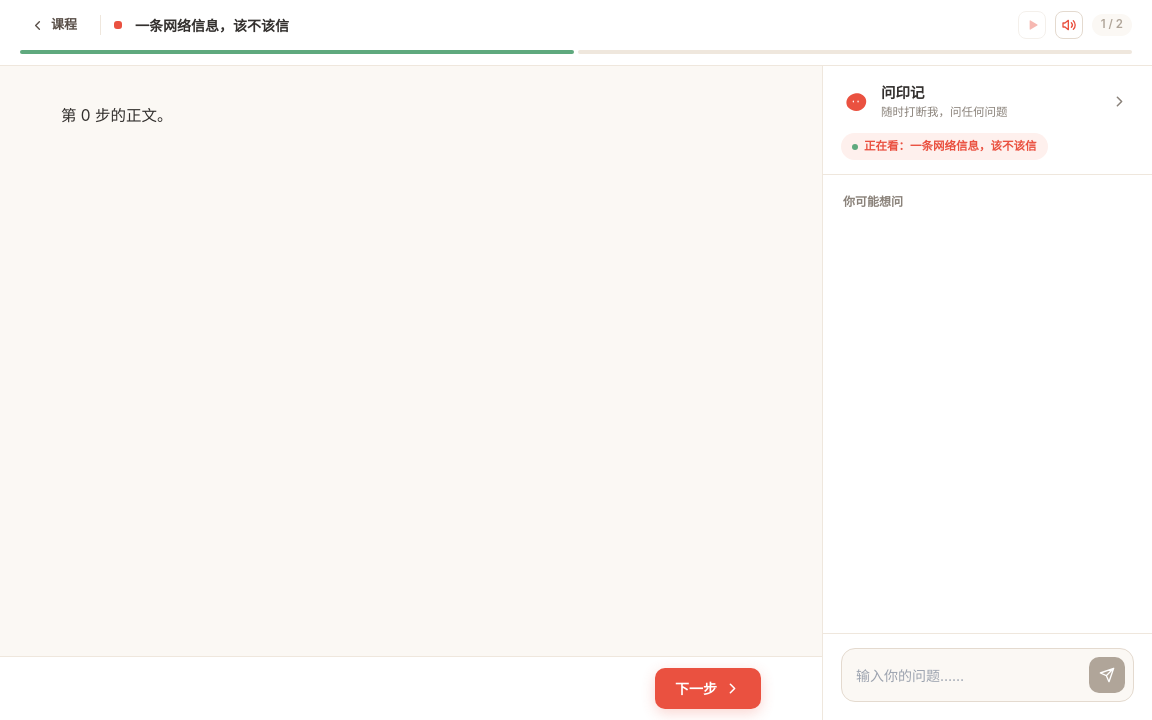
Test: CoursePlayer › sends a question through the AI bar and streams the reply
The image size is (1152, 720).
Check: the text "第 0 步的正文。" is shown, box [61,106,172,125]
Type "这段话可信吗？" into the field with placeholder "输入你的问题……".
click(968, 675); type("这段话可信吗？")  # box [856,664,1079,686]
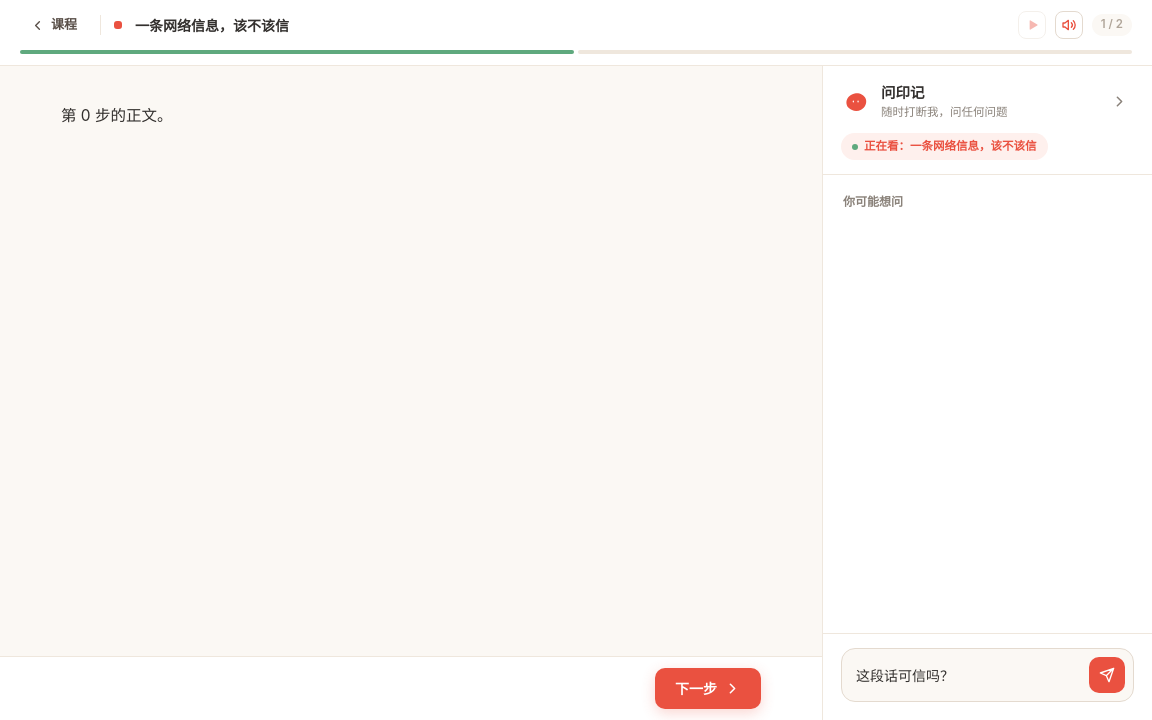
Click the button named "发送".
click(1107, 675)  # box [1089,657,1125,693]
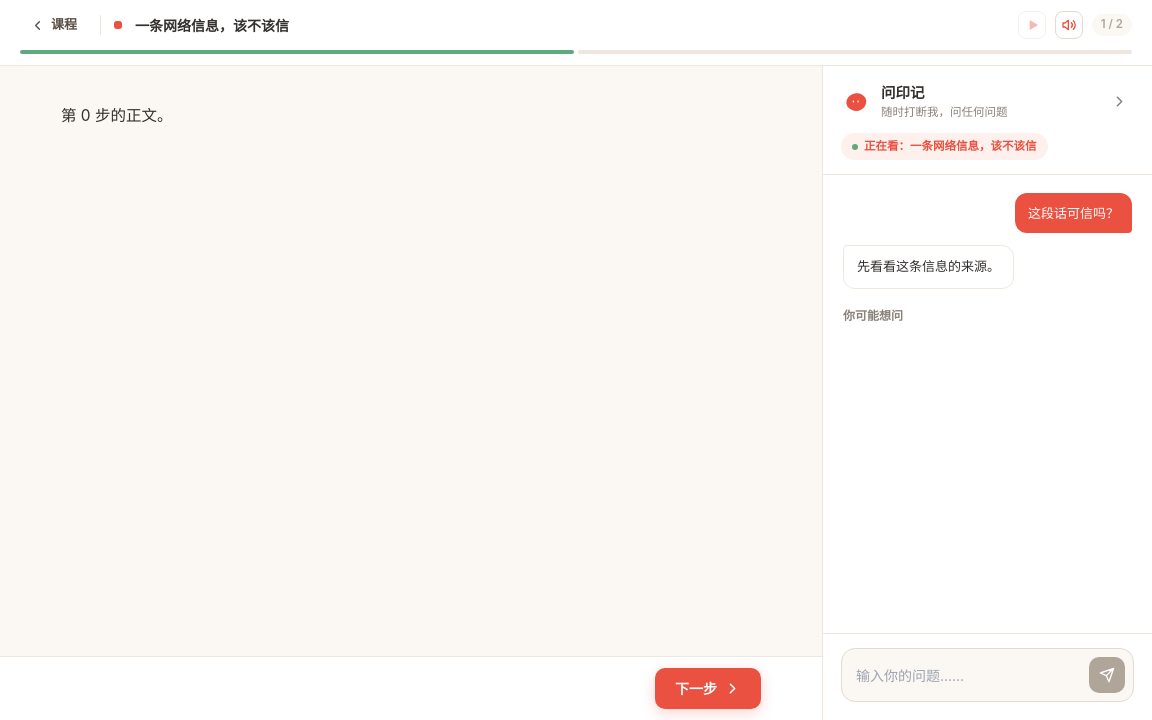
Check: the text "先看看这条信息的来源。" is shown, box [843,245,1014,289]
